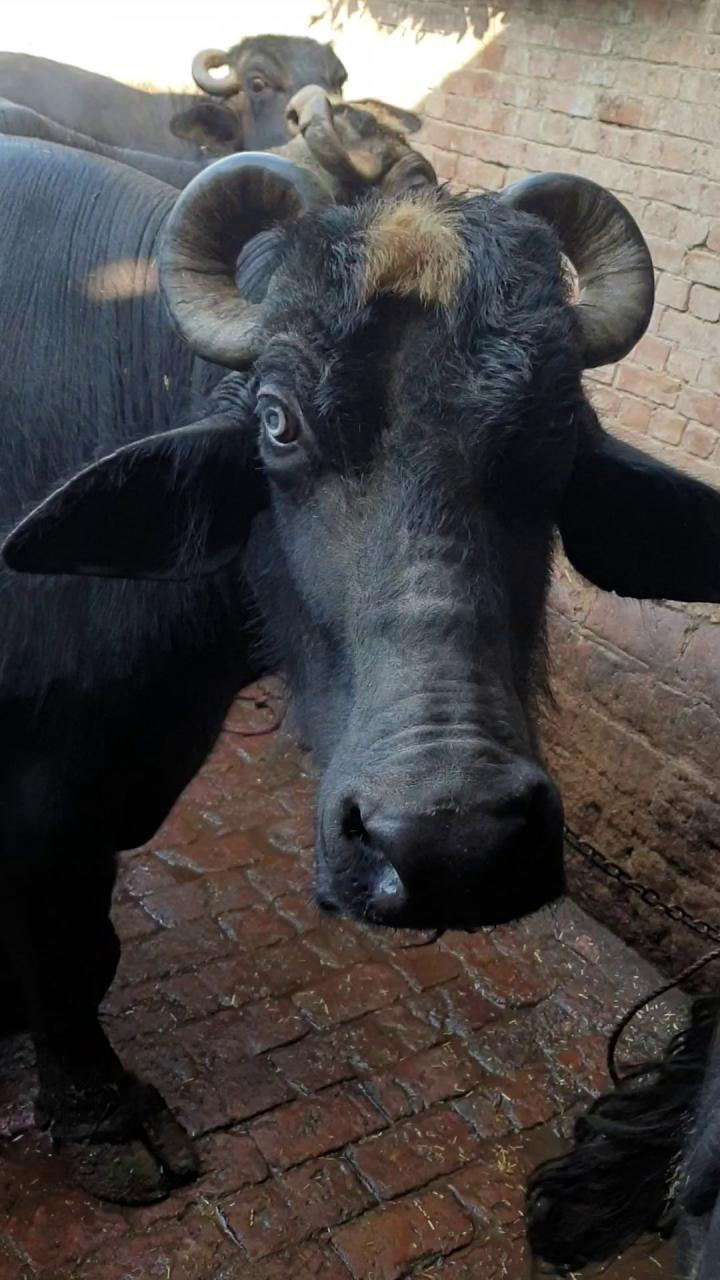cows: (172, 15, 343, 137)
